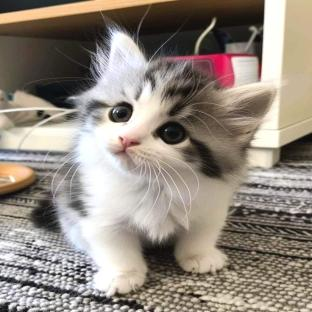Animal: (32, 28, 276, 296)
